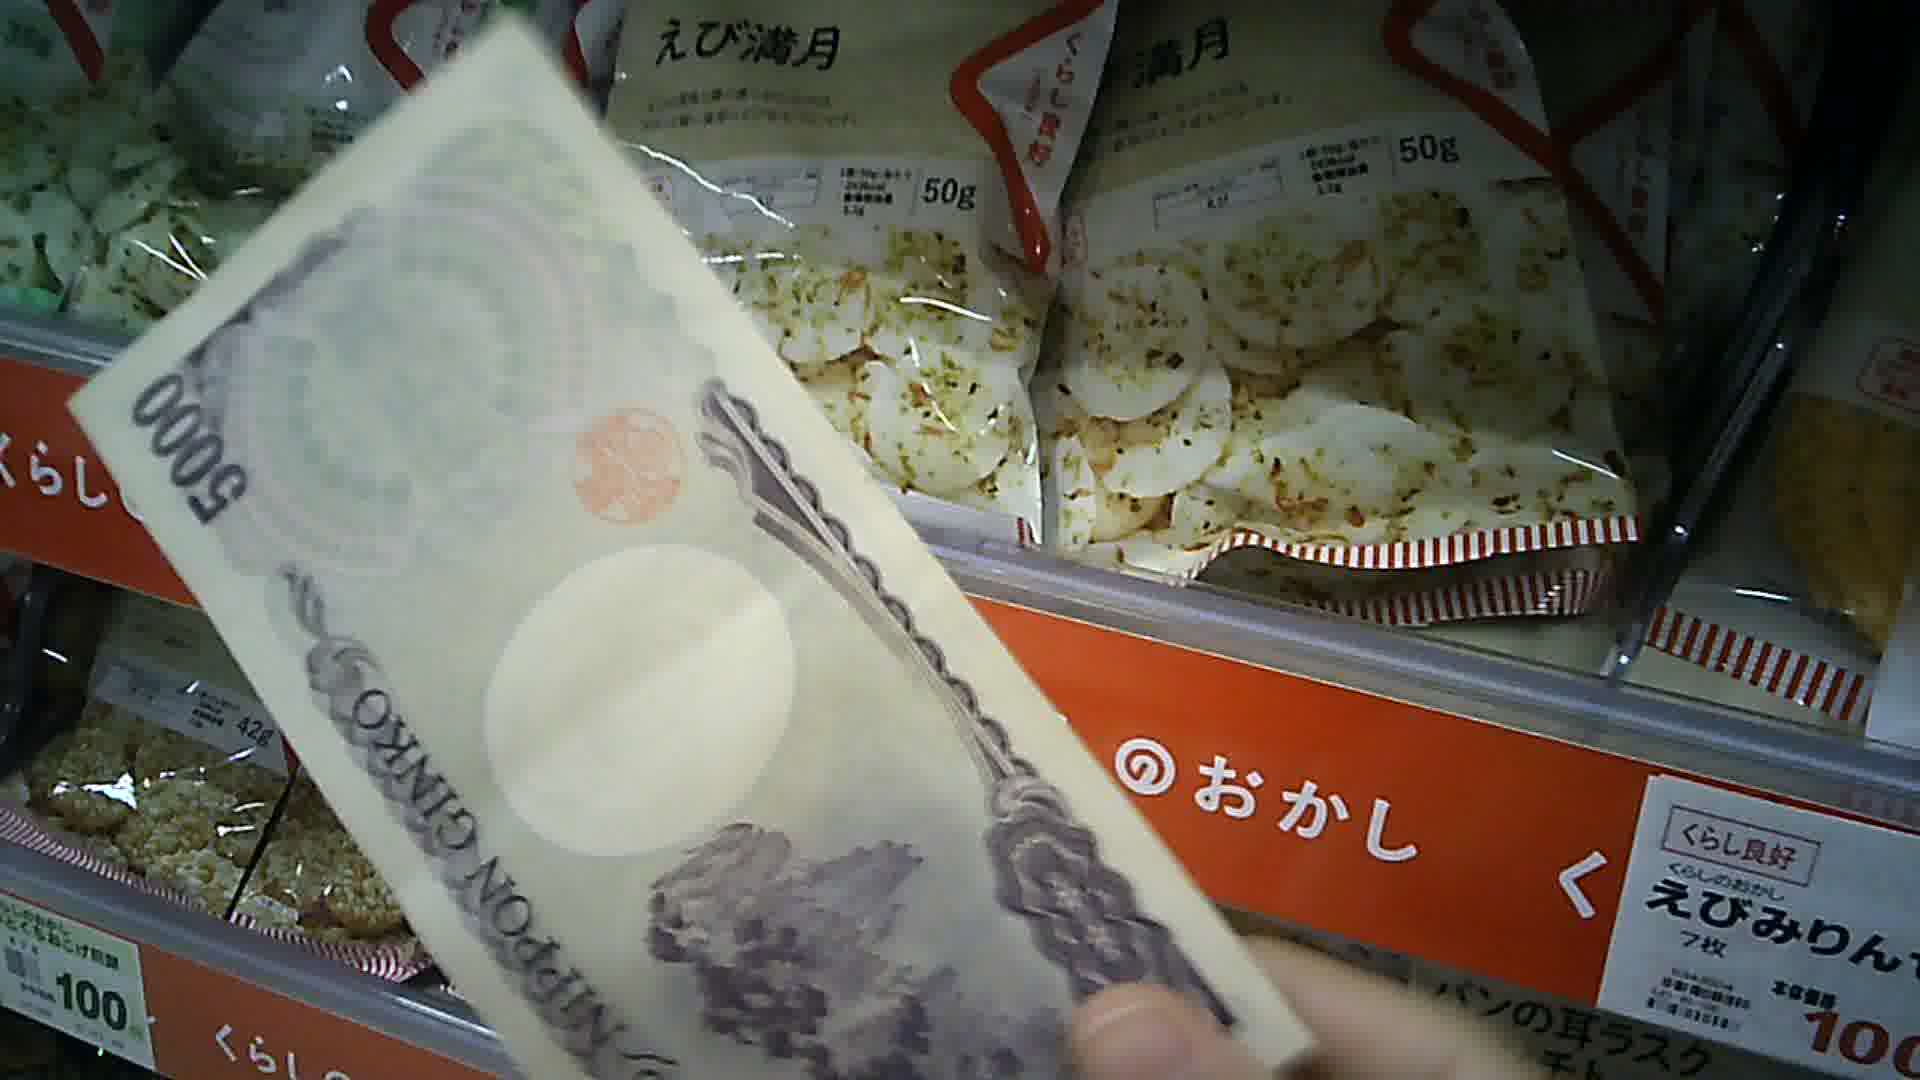5,000 Yen: (65, 15, 1273, 1073)
